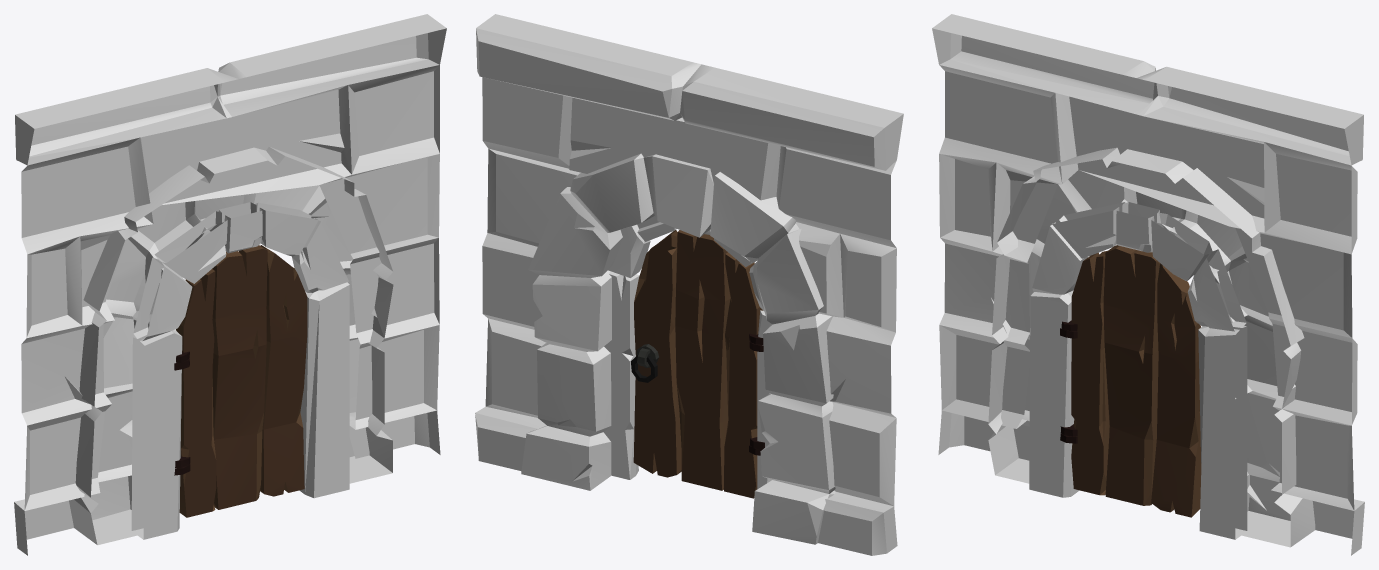
Rendered from NGF_Env_Stone_doorway_on_the_foundation_05.fbx.
3 views of the same model, side by side, from view 1: azimuth 30°, elevation 25°; view 2: azimuth 150°, elevation 25°; view 3: azimuth 330°, elevation 25° (orthographic).
Visible parts, largest first — view 1: NGF_Env_Stone_doorway_on_the_foundation_05, NGF_Env_Door_arc_03, NGF_Env_Door_03; view 2: NGF_Env_Stone_doorway_on_the_foundation_05, NGF_Env_Door_03, NGF_Env_Door_arc_03; view 3: NGF_Env_Stone_doorway_on_the_foundation_05, NGF_Env_Door_03, NGF_Env_Door_arc_03.
Part boxes in pixels (x1,y1,x2,y2): NGF_Env_Stone_doorway_on_the_foundation_05: (14, 14, 446, 555); NGF_Env_Door_arc_03: (131, 202, 349, 539); NGF_Env_Door_03: (176, 245, 307, 517); NGF_Env_Stone_doorway_on_the_foundation_05: (475, 14, 903, 555); NGF_Env_Door_03: (633, 230, 762, 498); NGF_Env_Door_arc_03: (603, 216, 771, 489); NGF_Env_Stone_doorway_on_the_foundation_05: (932, 14, 1364, 555); NGF_Env_Door_03: (1071, 245, 1201, 517); NGF_Env_Door_arc_03: (1029, 202, 1247, 539).
Size of the model in its own units: 4 by 4 by 0.6083.
1 material, 1 textured.
